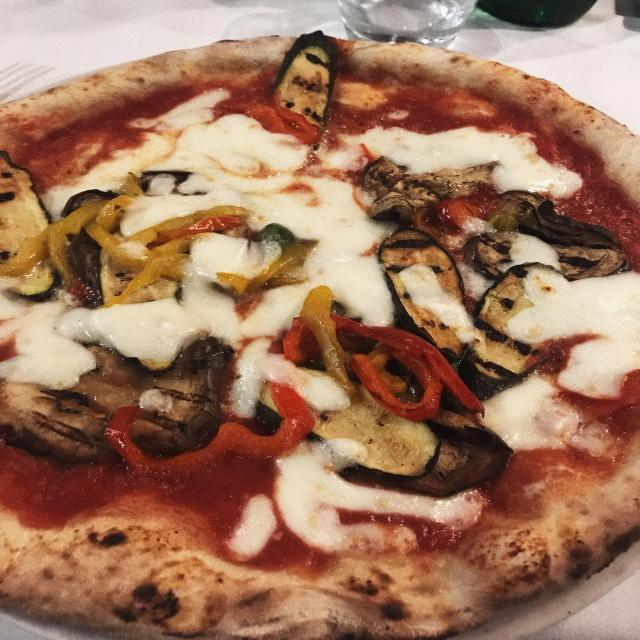peppers: (82, 183, 308, 308), (284, 311, 480, 420), (110, 385, 310, 484), (10, 198, 113, 294), (300, 282, 363, 388)
pizza: (0, 30, 640, 640)
